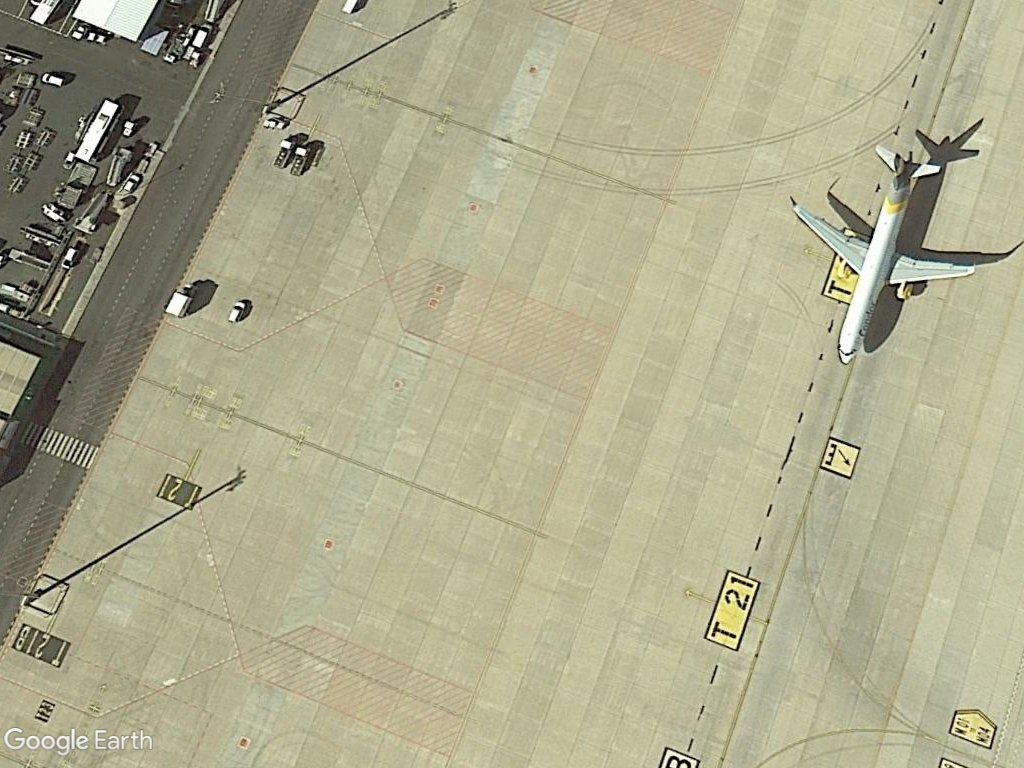airliner: (788, 127, 986, 370)
bus: (70, 87, 121, 167)
truck: (162, 277, 200, 325)
